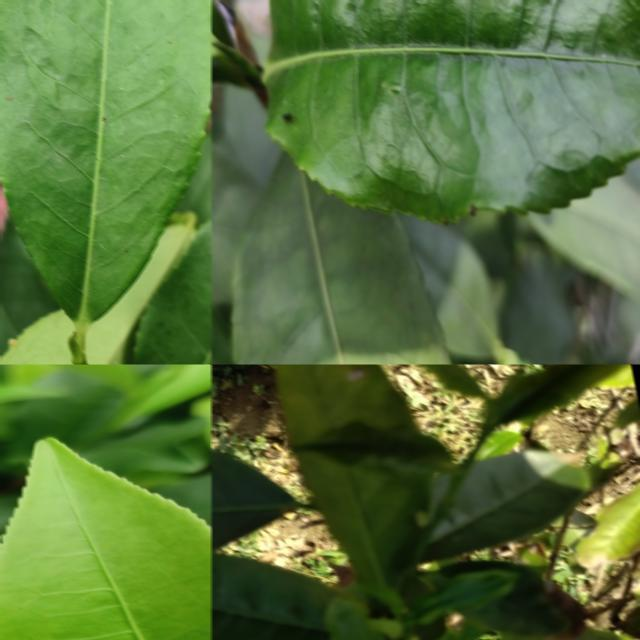Leaf: (262, 0, 640, 221), (0, 0, 212, 322), (232, 154, 451, 364), (0, 439, 212, 640), (276, 364, 454, 586), (424, 449, 589, 560), (528, 158, 640, 299), (398, 216, 498, 360), (210, 552, 337, 640), (485, 364, 626, 429), (210, 449, 297, 550), (0, 219, 59, 356), (210, 142, 259, 305), (410, 568, 517, 623), (576, 483, 640, 569), (120, 364, 212, 422), (177, 131, 212, 222), (161, 472, 212, 526), (323, 596, 385, 640), (419, 364, 485, 396)
